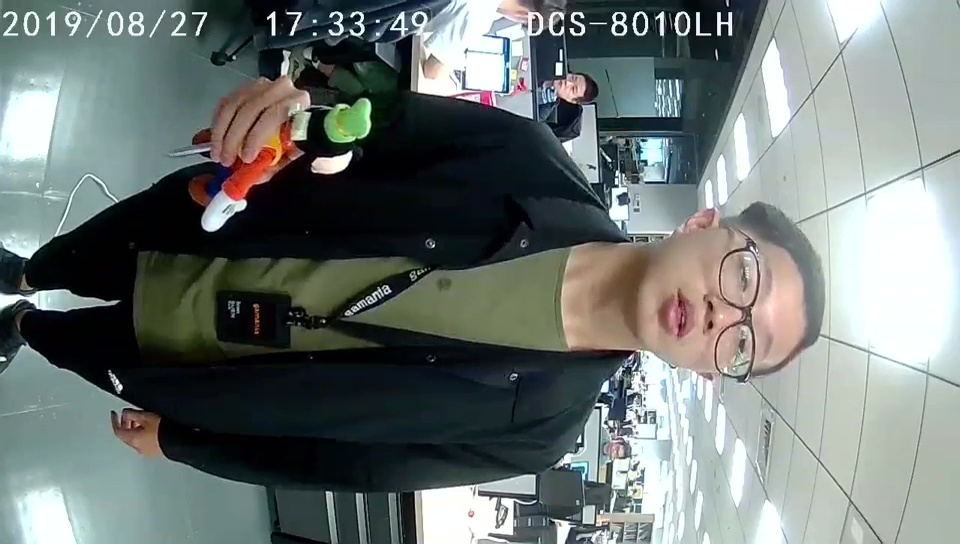goofy: (187, 96, 375, 234)
